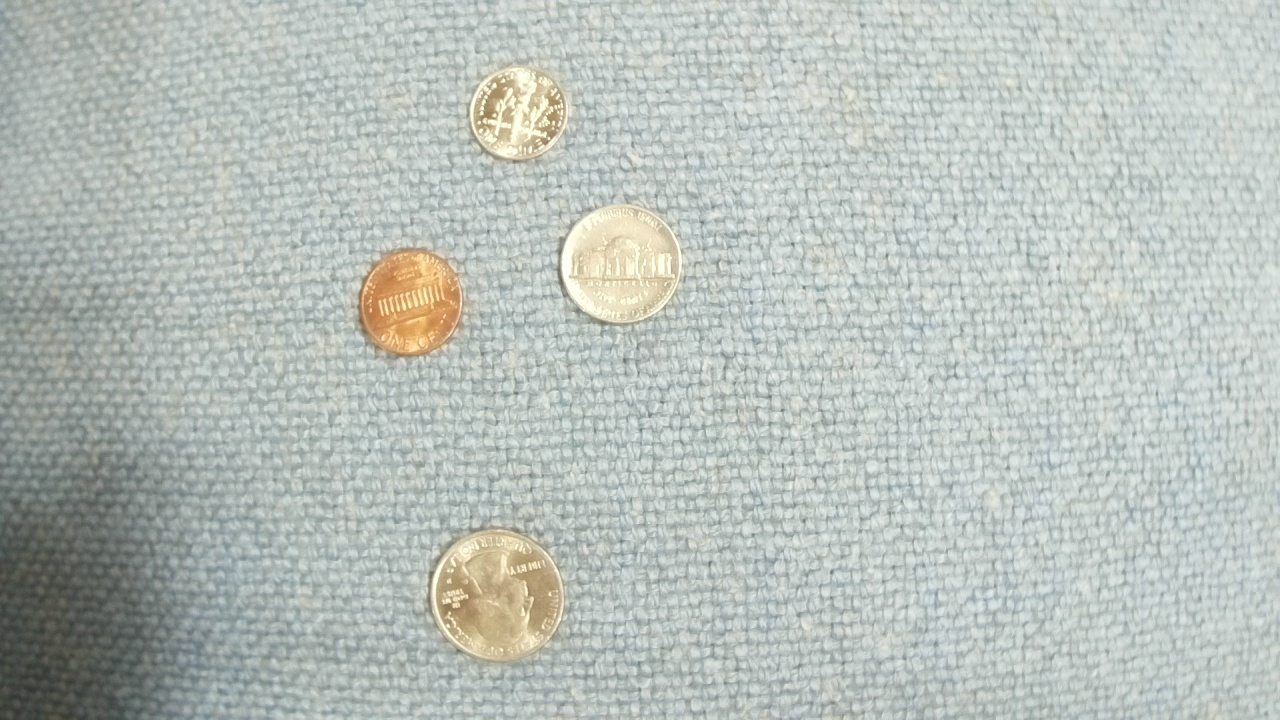dime: (464, 62, 572, 164)
nickel: (552, 200, 686, 330)
penny: (358, 245, 464, 359)
quarter: (428, 525, 564, 663)
